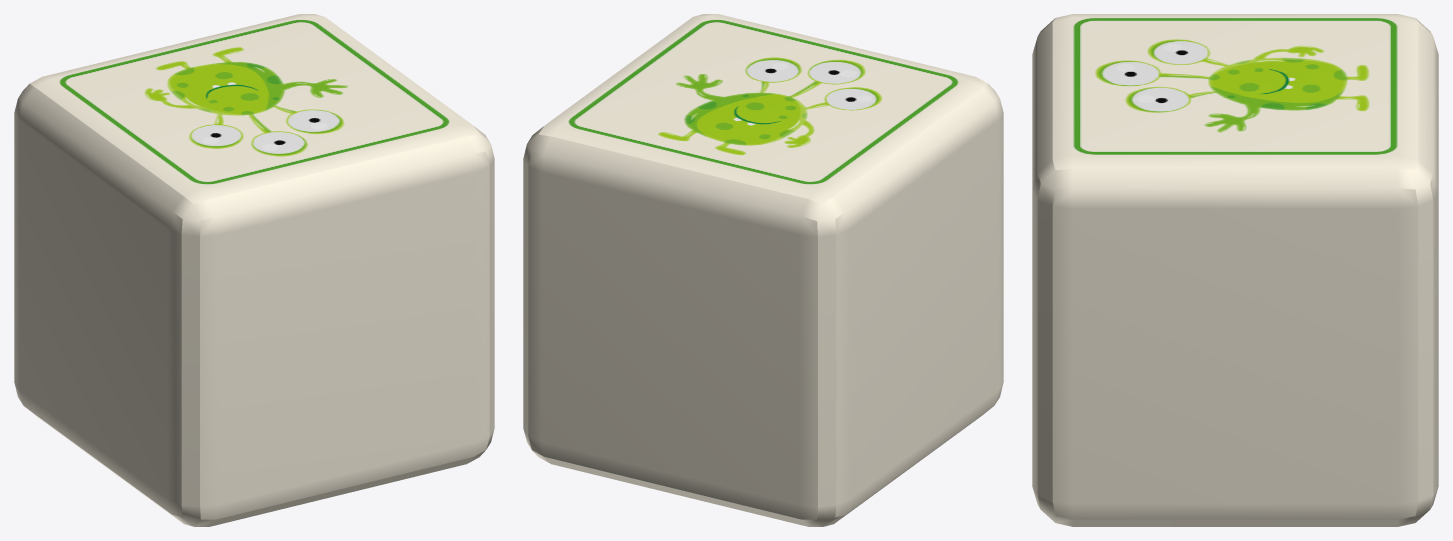
Rendered from MDL_Button.fbx.
The picture shows the model from 3 angles, left to right: view 1: azimuth 30°, elevation 25°; view 2: azimuth 150°, elevation 25°; view 3: azimuth 270°, elevation 25°; orthographic projection. The views are drawn at different scales.
Parts seen in each view (by area): view 1: MDL_Button; view 2: MDL_Button; view 3: MDL_Button.
Boxes of the visible parts, bbox=[...] form: MDL_Button: bbox=[14, 14, 494, 526]; MDL_Button: bbox=[523, 14, 1003, 526]; MDL_Button: bbox=[1032, 14, 1438, 526].
Bounding box in the file's own units: 20 × 20 × 20.
